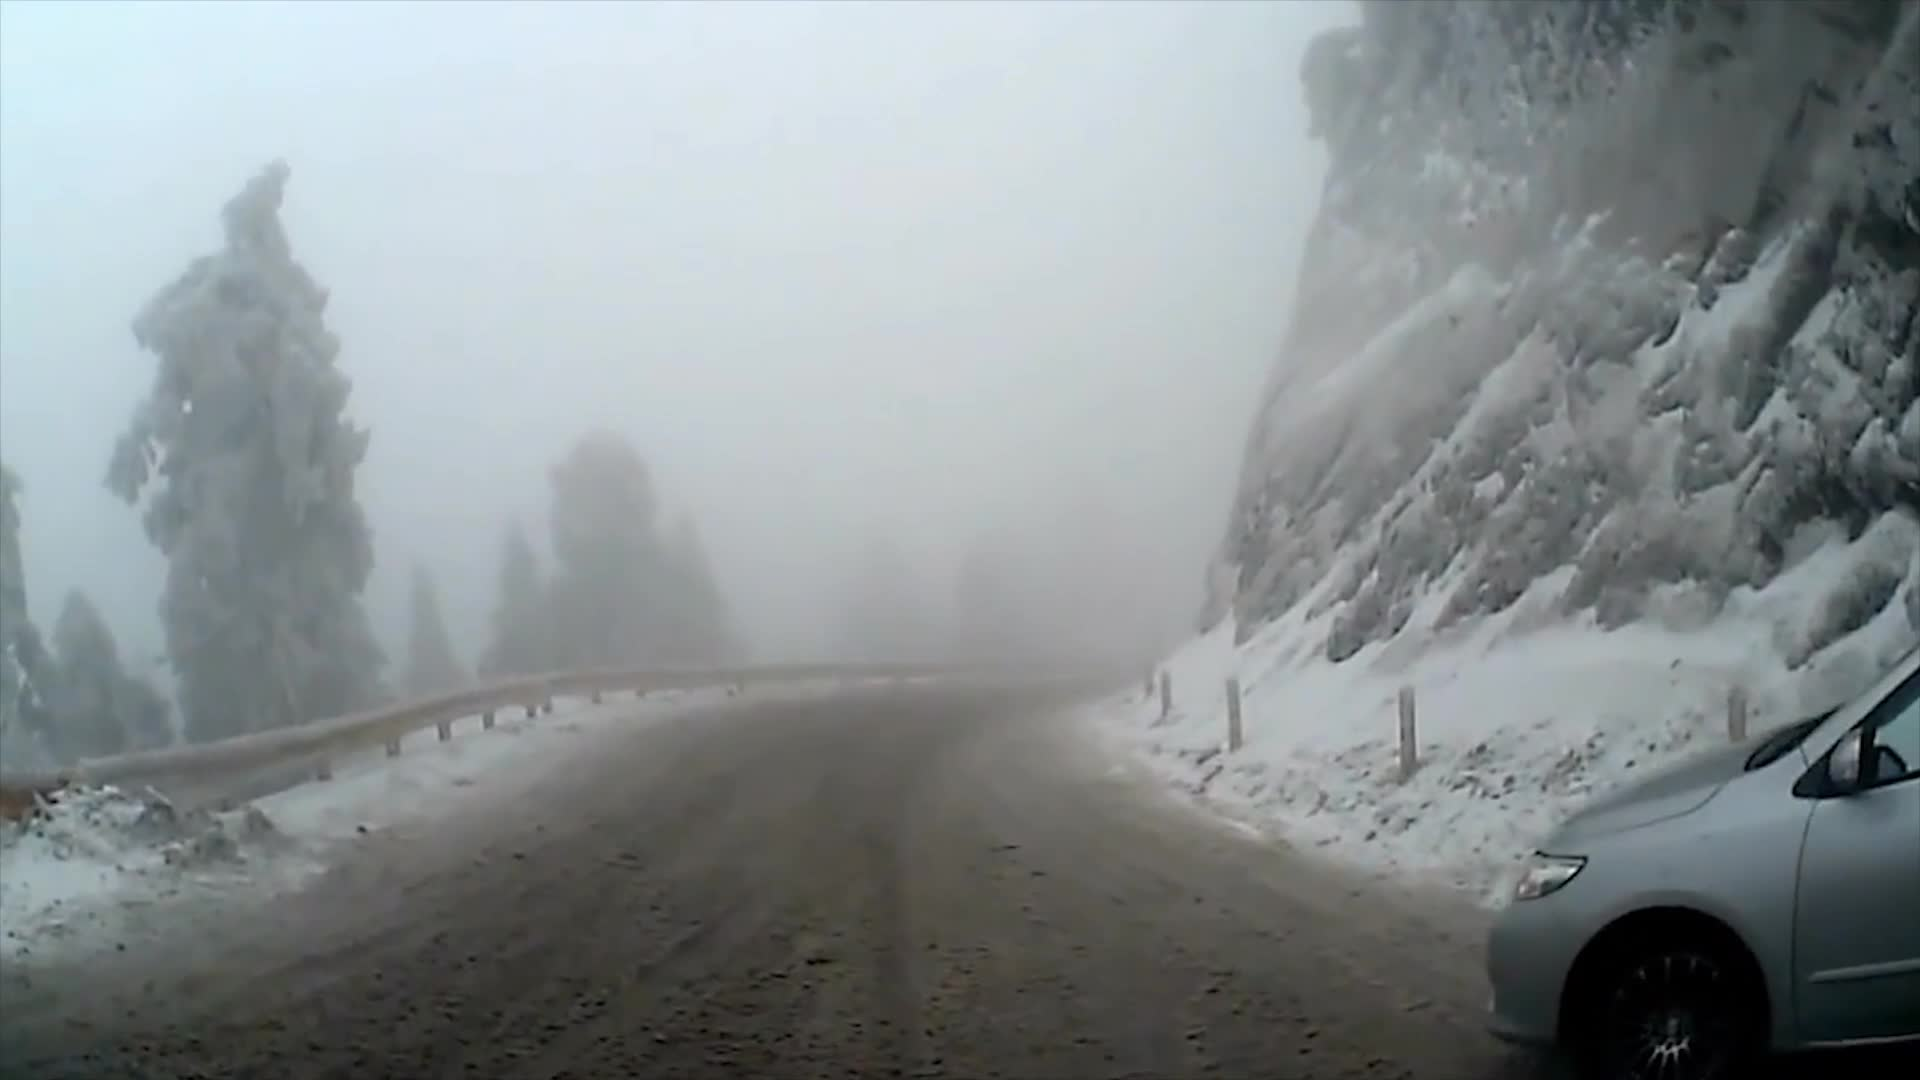vehicle: (1484, 633, 1920, 1080)
